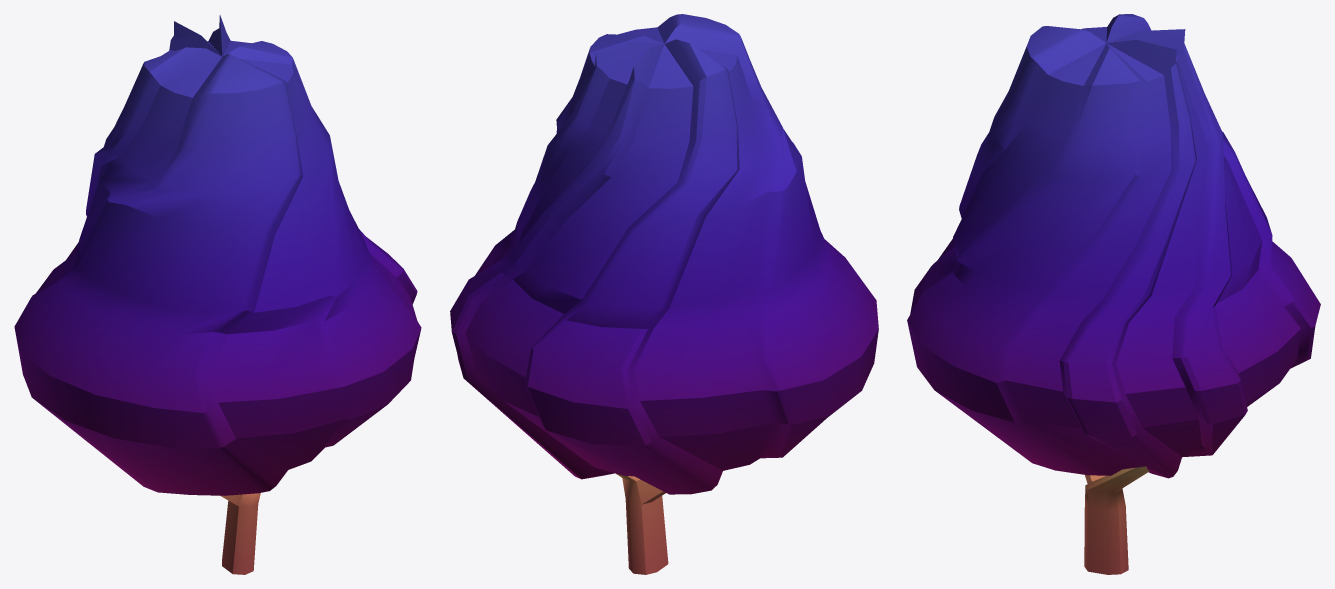
File: Edge_Tree_3.fbx
The picture shows the model from 3 angles, left to right: view 1: azimuth 30°, elevation 25°; view 2: azimuth 150°, elevation 25°; view 3: azimuth 270°, elevation 25°; orthographic projection. The views are drawn at different scales.
Parts seen in each view (by area): view 1: Edge_tree_v3; view 2: Edge_tree_v3; view 3: Edge_tree_v3.
Part boxes in pixels (x1,y1,x2,y2): Edge_tree_v3: (14, 15, 421, 574); Edge_tree_v3: (450, 14, 878, 574); Edge_tree_v3: (907, 14, 1320, 574).
Size of the model in its own units: 191 by 264 by 187.
